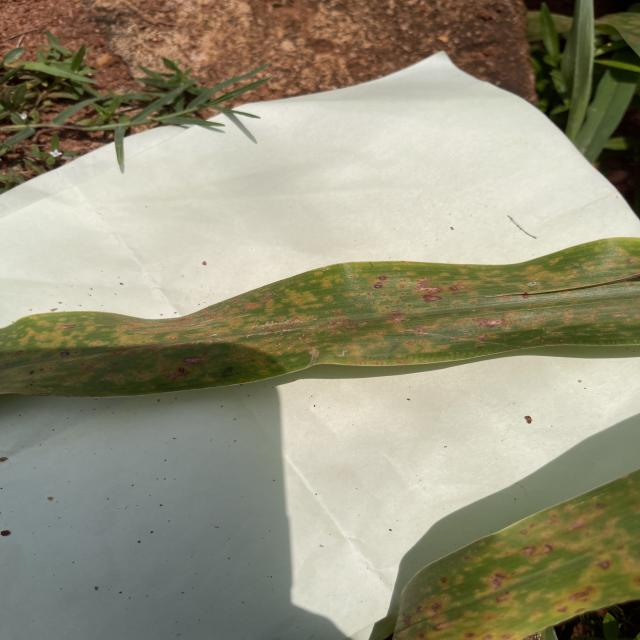millet_rust: (0, 229, 640, 407)
